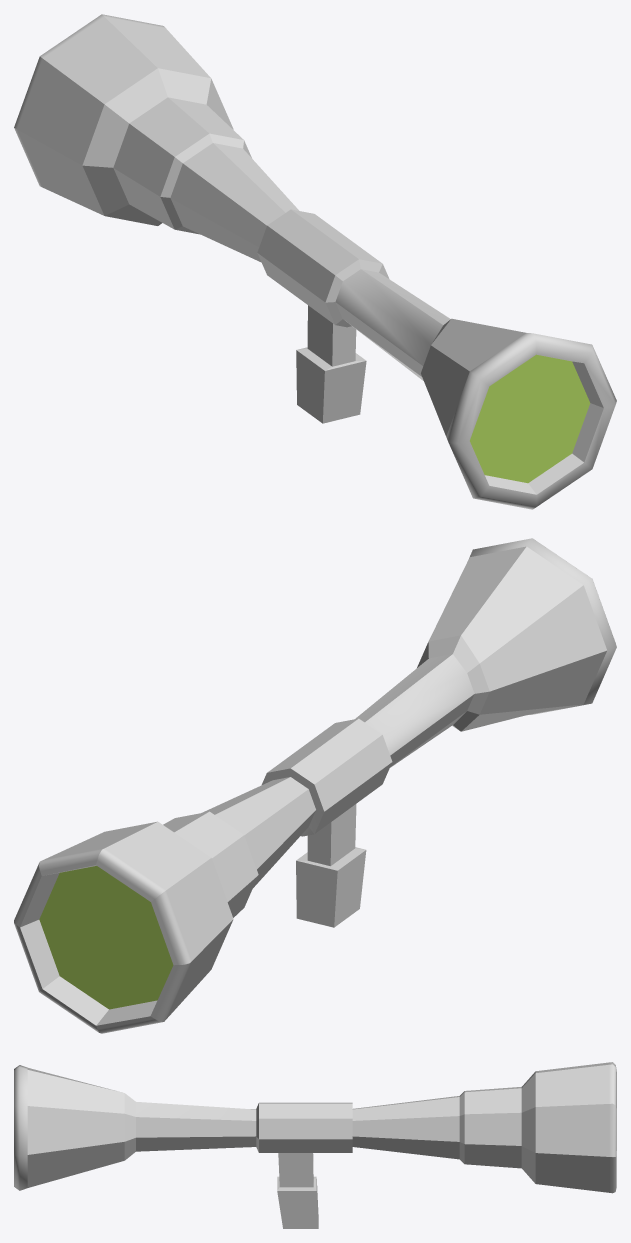
The model's file is NewScope2.fbx.
The picture shows the model from 3 angles, top to bottom: view 1: azimuth 30°, elevation 25°; view 2: azimuth 150°, elevation 25°; view 3: azimuth 270°, elevation 25°; orthographic projection. The views are drawn at different scales.
Parts seen in each view (by area): view 1: SM_Wep_American_Scope_Long_01; view 2: SM_Wep_American_Scope_Long_01; view 3: SM_Wep_American_Scope_Long_01.
Boxes of the visible parts, x1,y1,x2,y2 form: SM_Wep_American_Scope_Long_01: (14,14,616,509); SM_Wep_American_Scope_Long_01: (14,538,616,1033); SM_Wep_American_Scope_Long_01: (14,1062,616,1228).
Bounding box in the file's own units: 0.0881 × 0.1101 × 0.3802.
